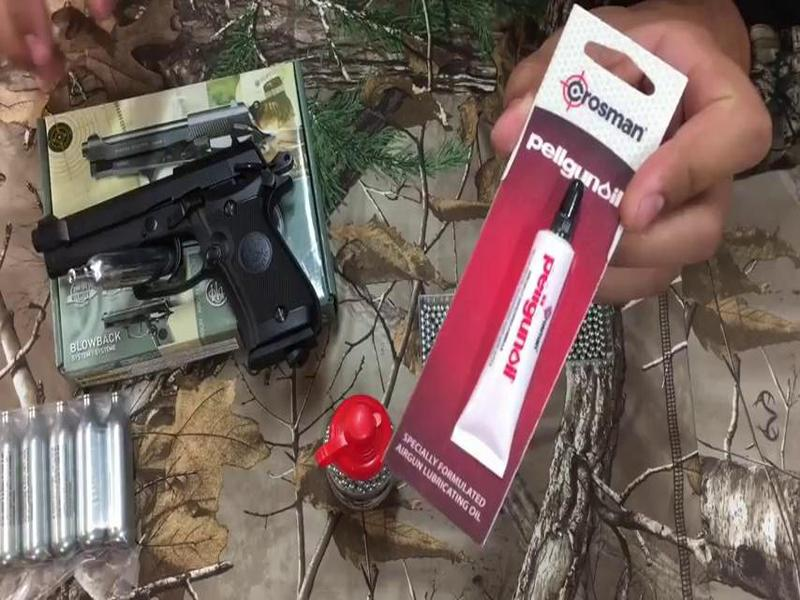Pistola: (26, 171, 322, 364)
